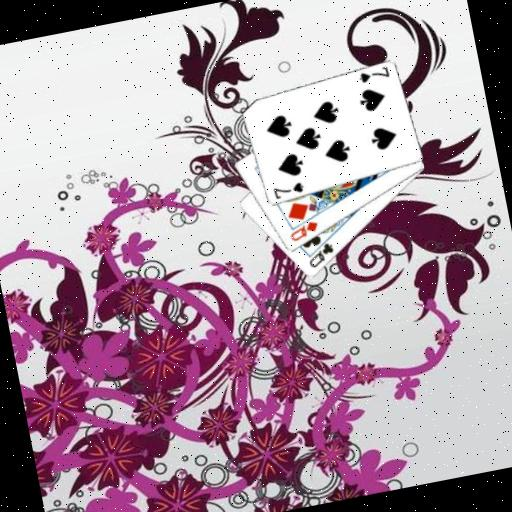7S: (269, 179, 307, 202), (355, 63, 392, 86)
QC: (303, 239, 339, 271)
QD: (285, 217, 322, 244)
